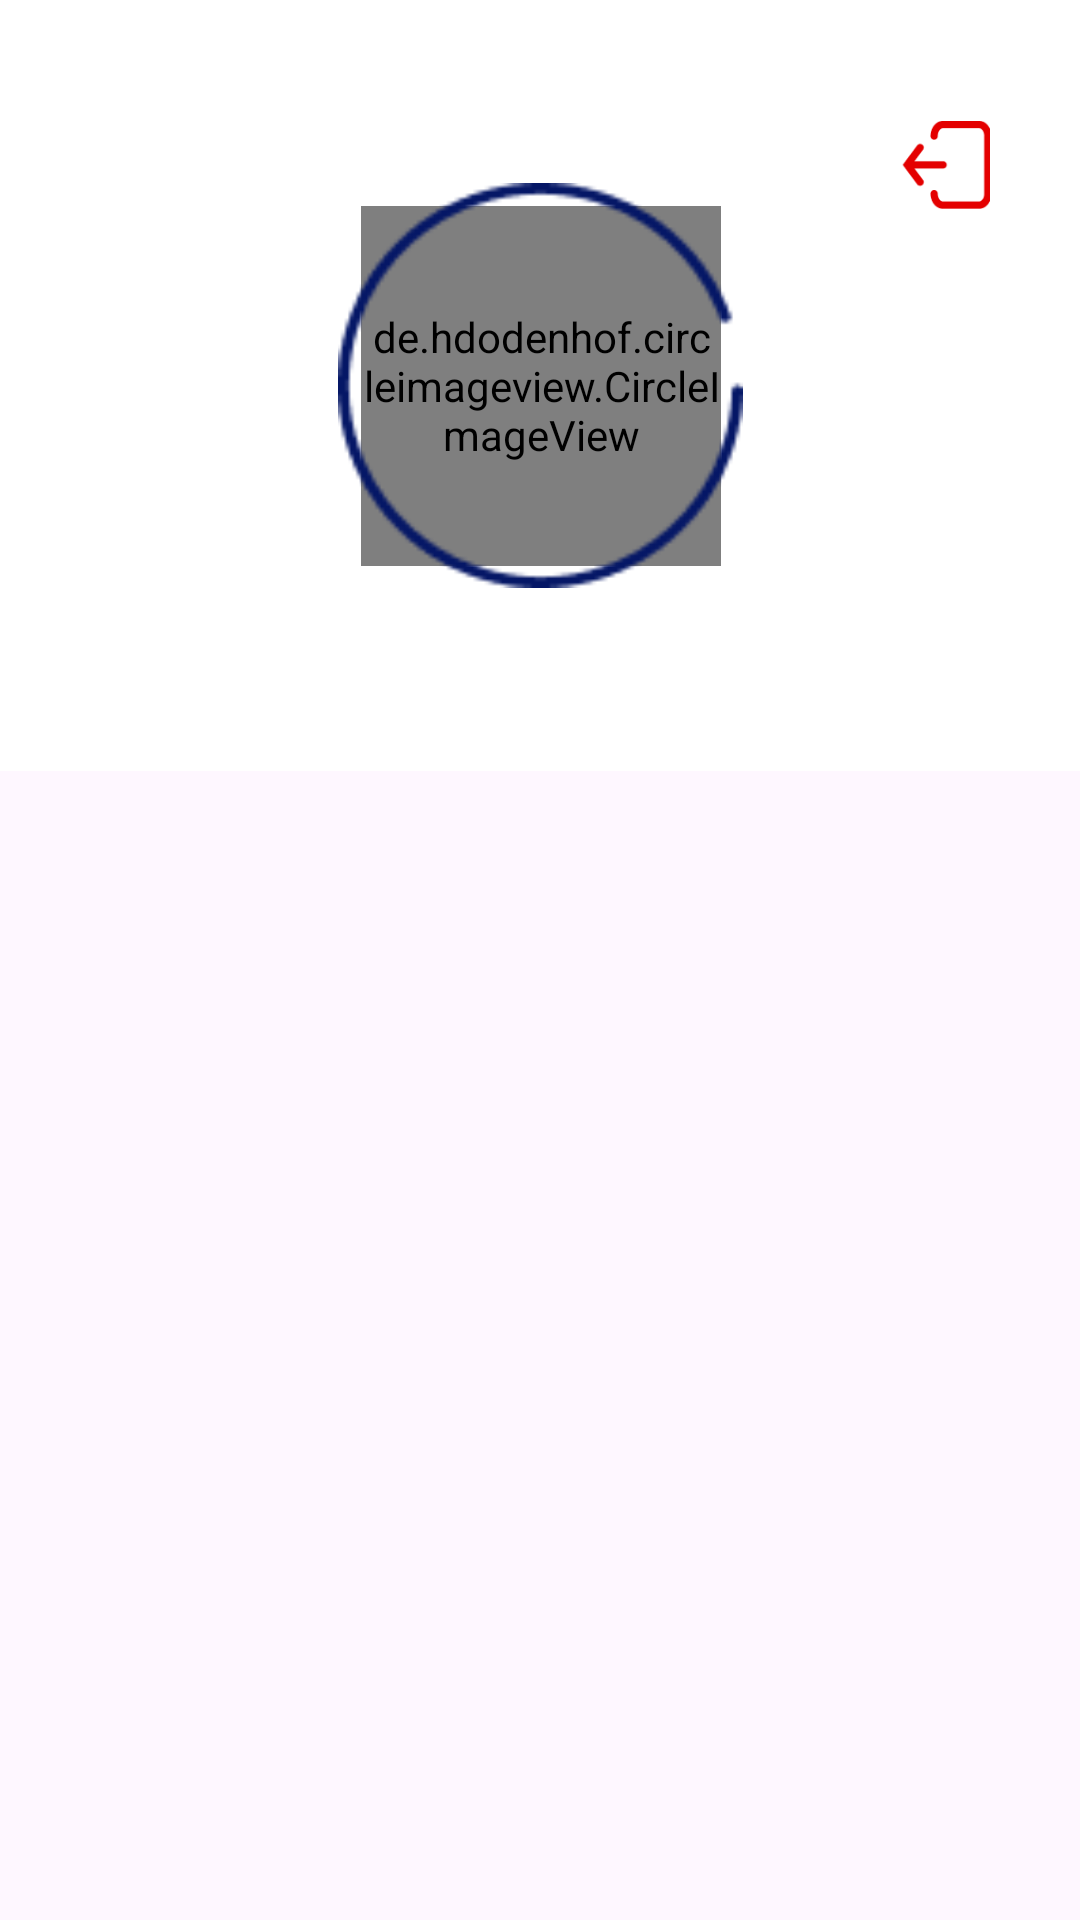

Icon bounding boxes for this 1080 × 1920 phone screenshot, format (x1, y1, x2, y2):
exit: (902, 121, 990, 209)
